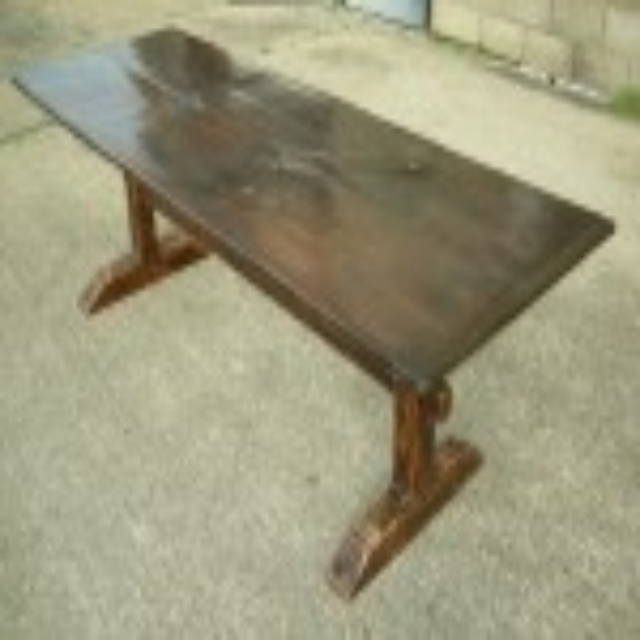obstacle: (17, 30, 610, 477)
